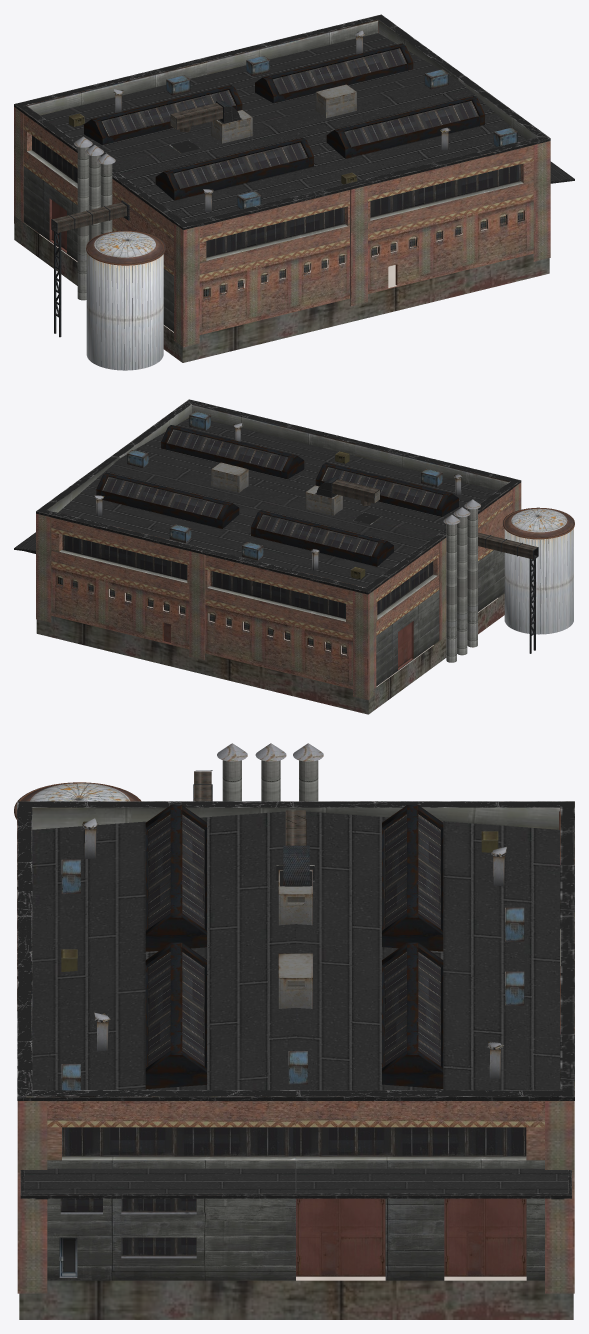
The model's file is factory_test.glb.
3 renders of one model, top to bottom at view 1: azimuth 30°, elevation 25°; view 2: azimuth 150°, elevation 25°; view 3: azimuth 270°, elevation 25°, orthographic. The views are drawn at different scales.
Visible parts, largest first — view 1: factory; view 2: factory; view 3: factory.
Part boxes in pixels (<box>): factory: <box>14,14,574,370</box>; factory: <box>14,399,574,714</box>; factory: <box>14,743,574,1319</box>.
Size of what is drawn, in the model's own units: 57.41 by 19.78 by 36.36.
Materials: 1 (1 with a texture image).
